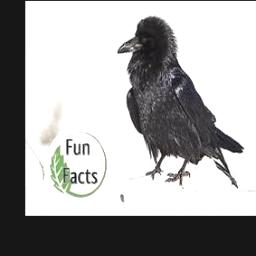Crow: (117, 16, 243, 189)
